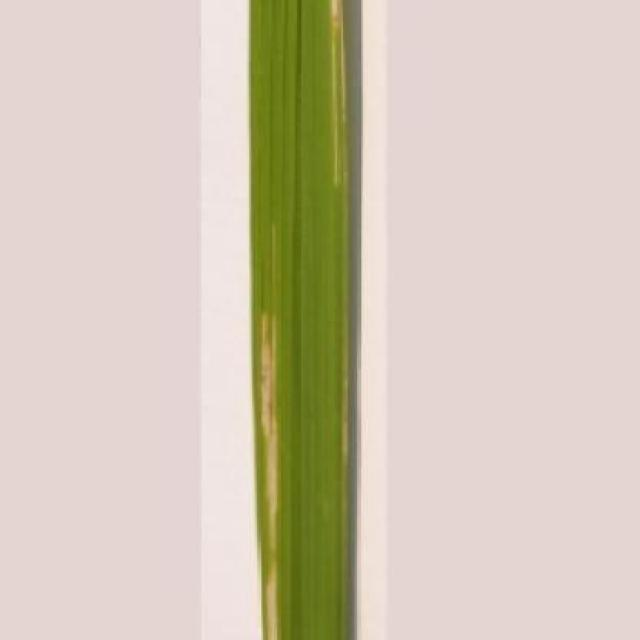Brown_Spot: (248, 0, 359, 640)
